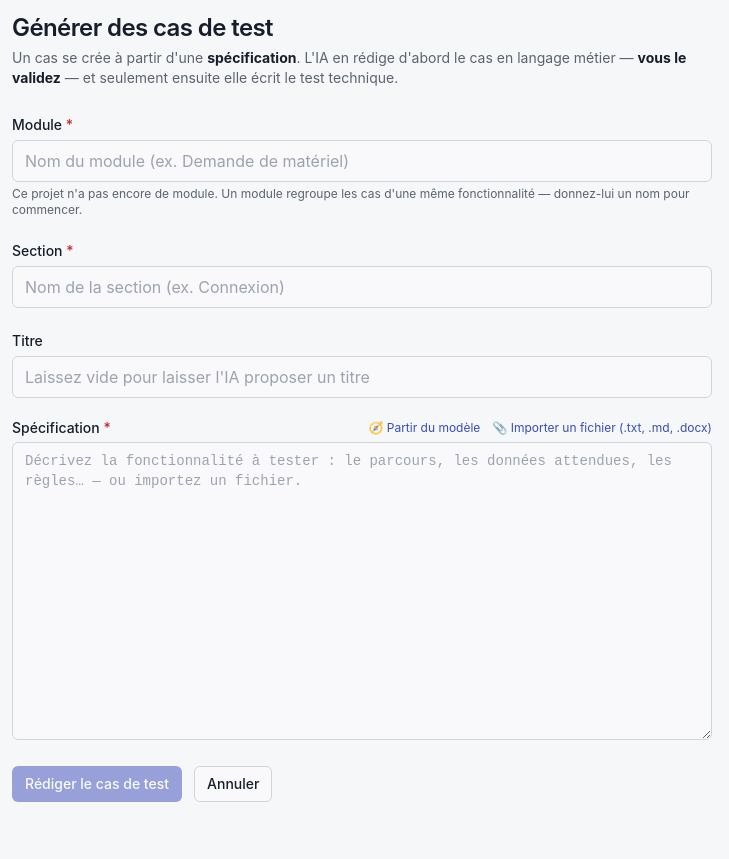
Test: AddTestCase — un projet NEUF n'est plus un cul-de-sac › REMONTE l'erreur de création du module sans lancer de génération payante
Type "X" into the 1st field at (362, 161), box [12, 140, 712, 182]
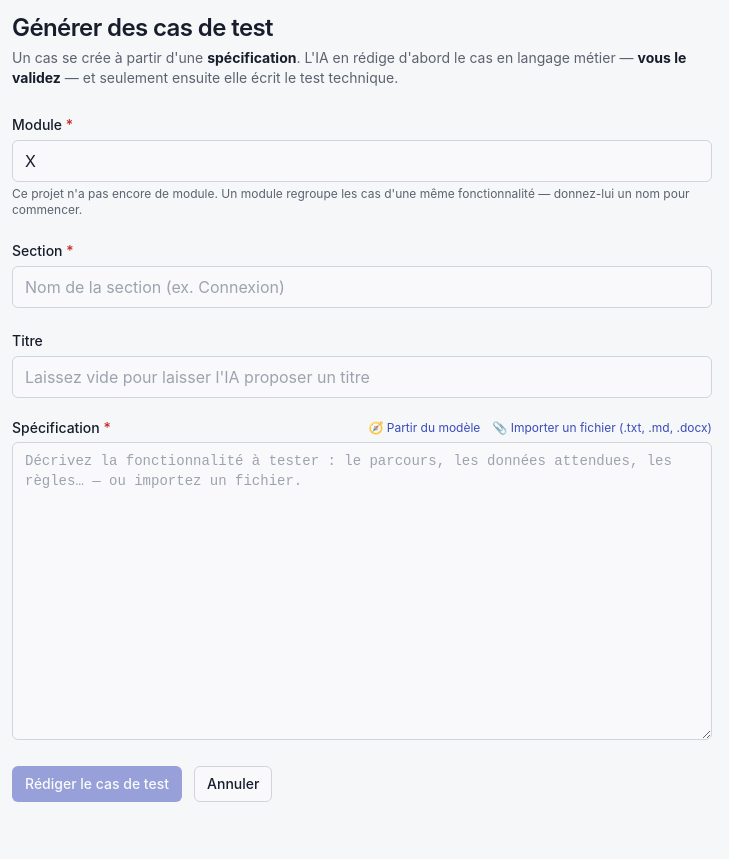
Replace the text in the text box with "La spécification" at (362, 591), box [12, 442, 712, 740]
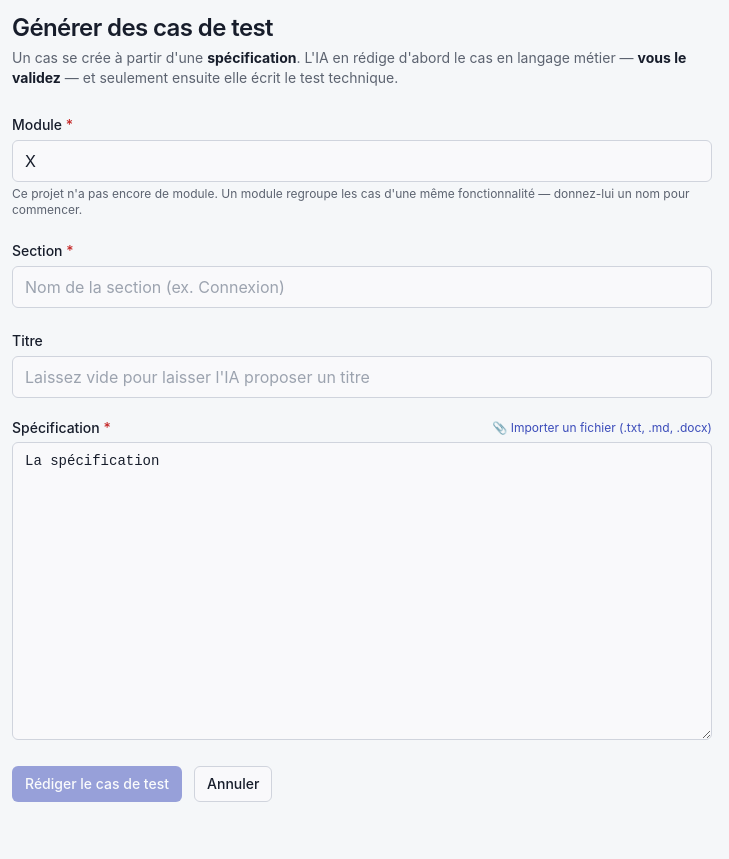
Submit the form
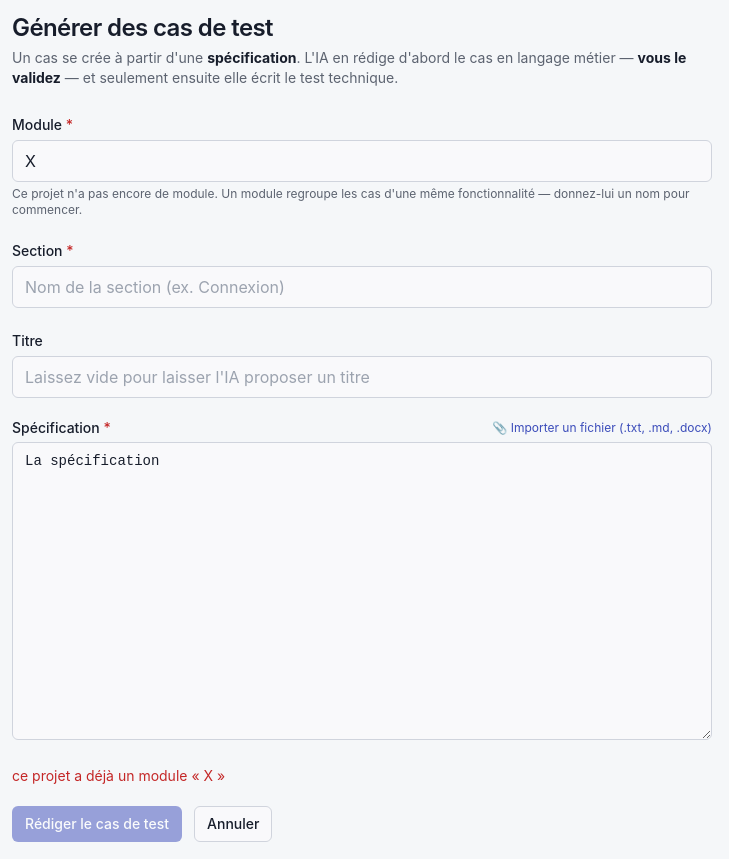
Now the text "déjà un module" is shown, box [12, 767, 225, 784]
